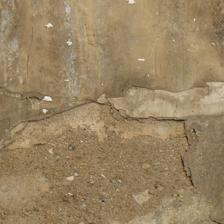Crack: (4, 0, 99, 103), (56, 30, 138, 147), (21, 50, 90, 99), (7, 37, 41, 62)
